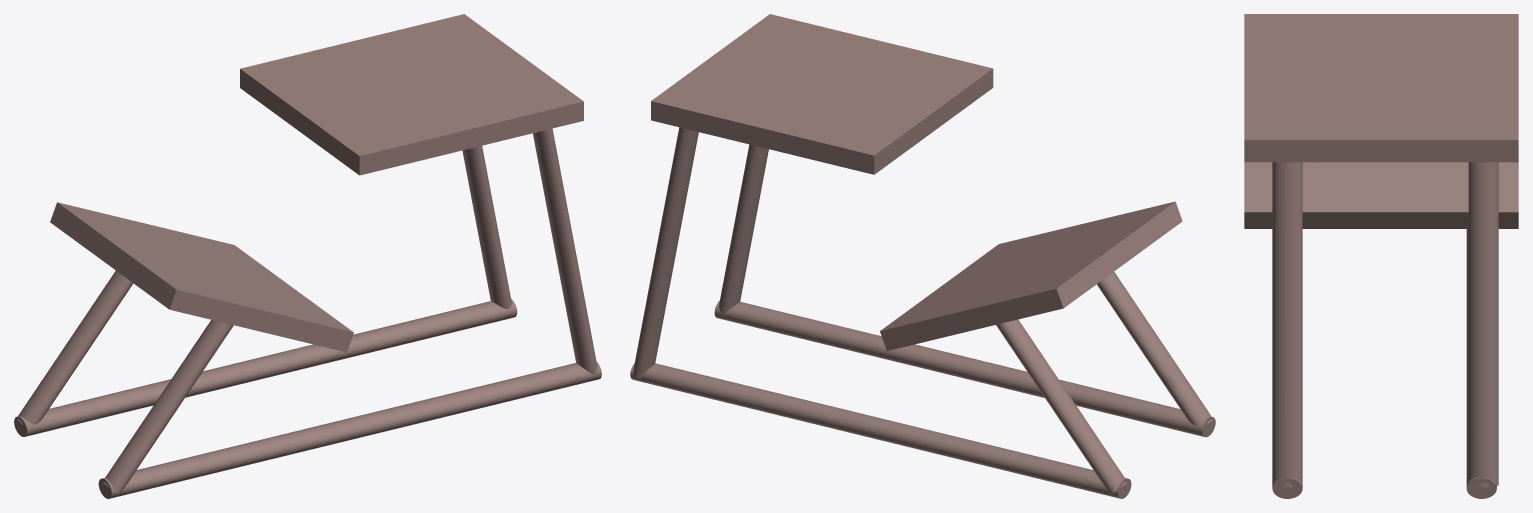
The model's file is Silla.obj.
3 renders of one model, left to right at view 1: azimuth 30°, elevation 25°; view 2: azimuth 150°, elevation 25°; view 3: azimuth 270°, elevation 25°, orthographic. The views are drawn at different scales.
Visible parts, largest first — view 1: Cube.020_Cube.046; view 2: Cube.020_Cube.046; view 3: Cube.020_Cube.046.
Part boxes in pixels (bbox=[...]): Cube.020_Cube.046: bbox=[14, 14, 601, 498]; Cube.020_Cube.046: bbox=[630, 14, 1215, 498]; Cube.020_Cube.046: bbox=[1244, 14, 1518, 498].
Bounding box in the file's own units: 9.5 × 5.5 × 4.
Materials: 1 (1 with a texture image).
